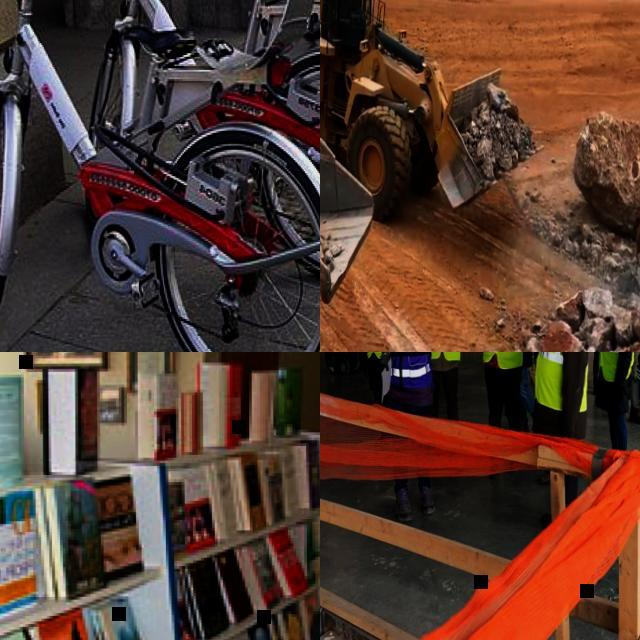vest: (533, 352, 590, 412), (388, 352, 439, 388), (595, 352, 634, 382), (480, 352, 529, 370)
